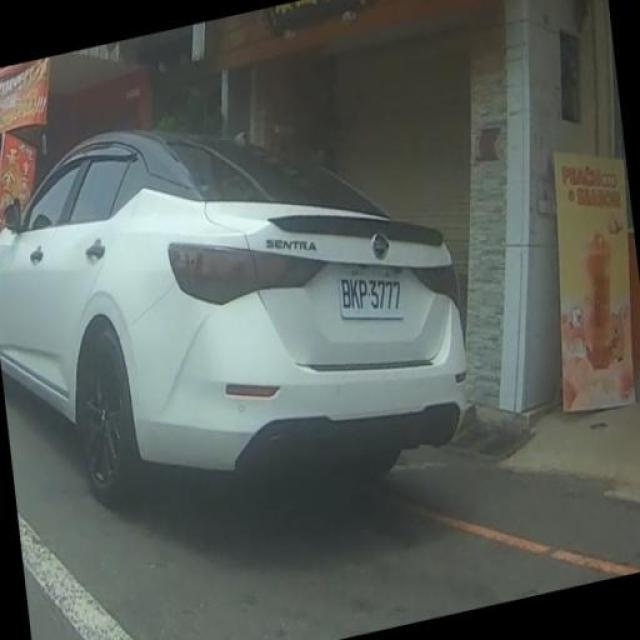illegalparking: (4, 77, 512, 524)
